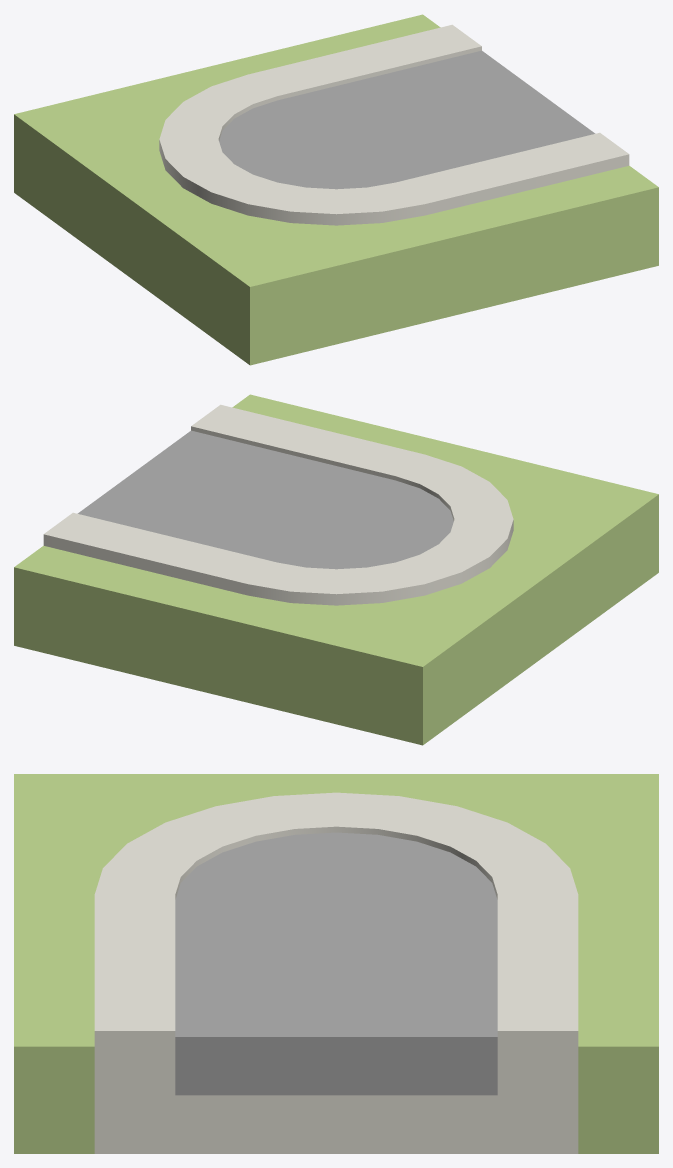
Rendered from road-pack--tile103.glb.
The picture shows the model from 3 angles, top to bottom: view 1: azimuth 30°, elevation 25°; view 2: azimuth 150°, elevation 25°; view 3: azimuth 270°, elevation 25°; orthographic projection. The views are drawn at different scales.
Parts seen in each view (by area): view 1: tile103; view 2: tile103; view 3: tile103.
Part boxes in pixels (left/top/right/bottom): tile103: left=14, top=14, right=658, bottom=365; tile103: left=14, top=394, right=658, bottom=745; tile103: left=14, top=774, right=658, bottom=1153.
Bounding box in the file's own units: 1 × 0.21 × 1.
